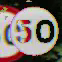Speed limit: (5, 7, 60, 56)
